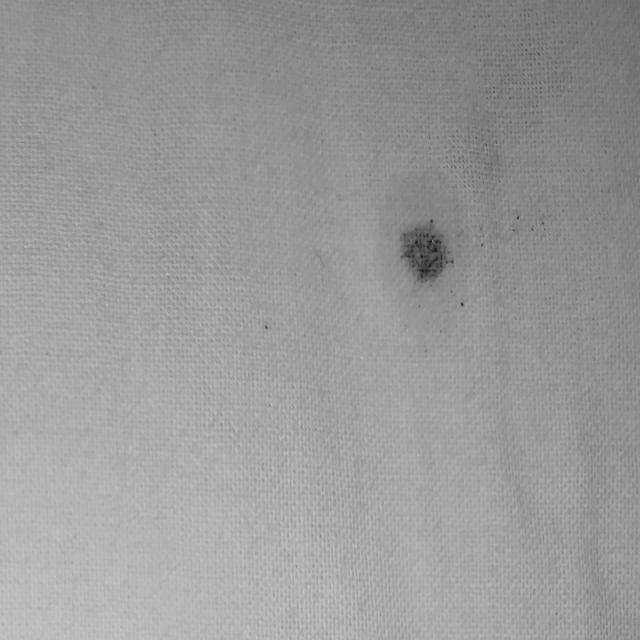Stain: (396, 220, 453, 285)
